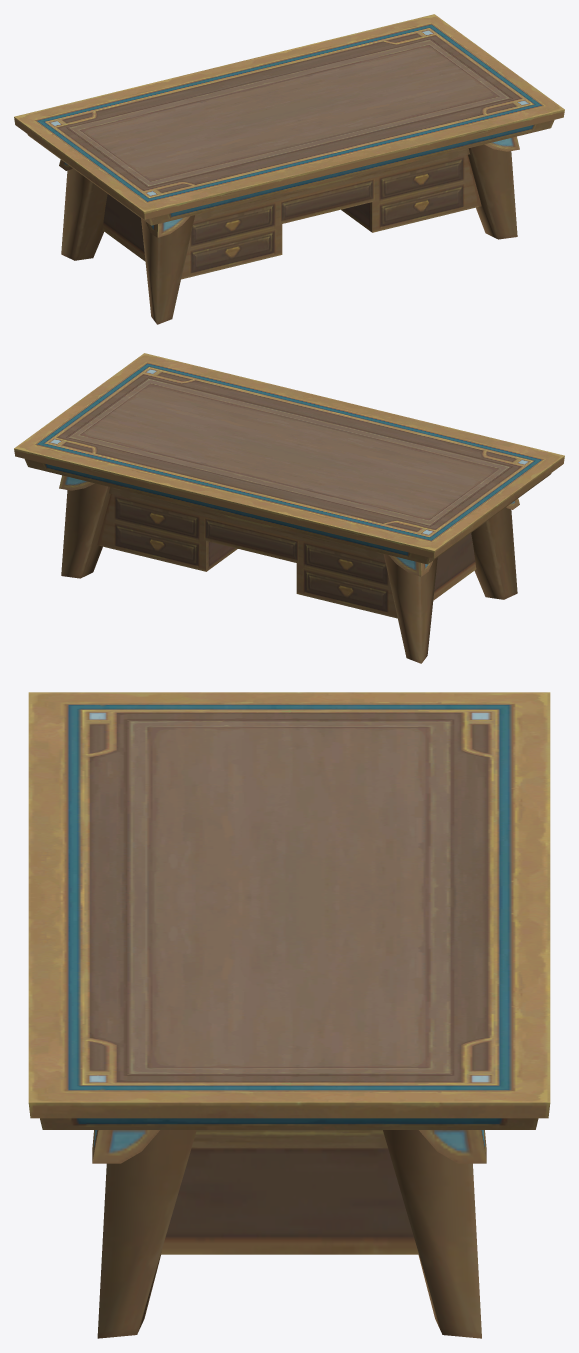
The model's file is Homeworld_Interior_Fd_Table_Prop_Shuzhuo_01_Vo.fbx.
3 views of the same model, one above another, from view 1: azimuth 30°, elevation 25°; view 2: azimuth 150°, elevation 25°; view 3: azimuth 270°, elevation 25° (orthographic). The views are drawn at different scales.
Visible parts, largest first — view 1: Indoor_Fd_Prop_Table_A_02_Vo; view 2: Indoor_Fd_Prop_Table_A_02_Vo; view 3: Indoor_Fd_Prop_Table_A_02_Vo.
Boxes of the visible parts, bbox=[...] form: Indoor_Fd_Prop_Table_A_02_Vo: bbox=[14, 14, 564, 324]; Indoor_Fd_Prop_Table_A_02_Vo: bbox=[14, 353, 564, 663]; Indoor_Fd_Prop_Table_A_02_Vo: bbox=[28, 692, 550, 1338].
Bounding box in the file's own units: 2.53 × 0.7638 × 1.36.
